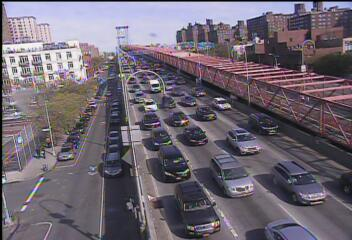neg: (219, 179, 245, 214), (294, 144, 320, 178), (183, 68, 208, 101), (288, 50, 313, 83), (177, 129, 199, 158), (70, 32, 91, 61), (138, 80, 158, 106), (248, 100, 267, 125), (115, 13, 133, 37), (173, 15, 191, 39), (255, 19, 270, 39), (34, 33, 45, 47), (147, 31, 157, 44), (124, 46, 133, 59)
pos: (34, 146, 44, 159)
